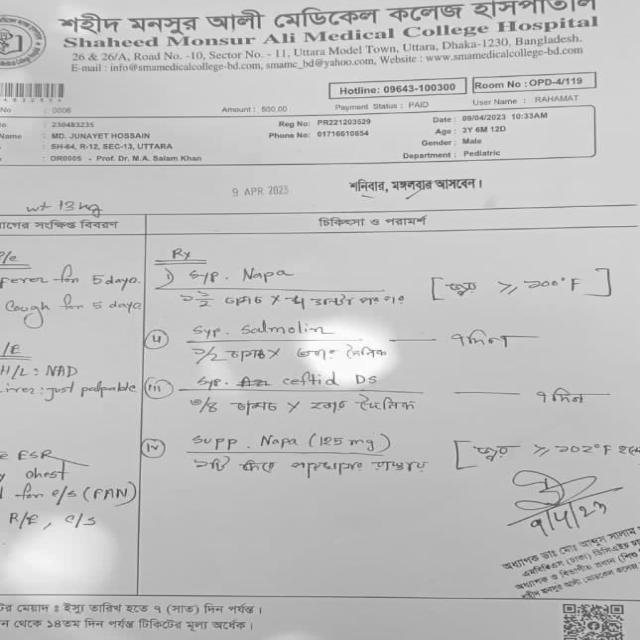medicine: (232, 316, 335, 342), (274, 364, 350, 392), (231, 260, 299, 288), (250, 429, 306, 453)
